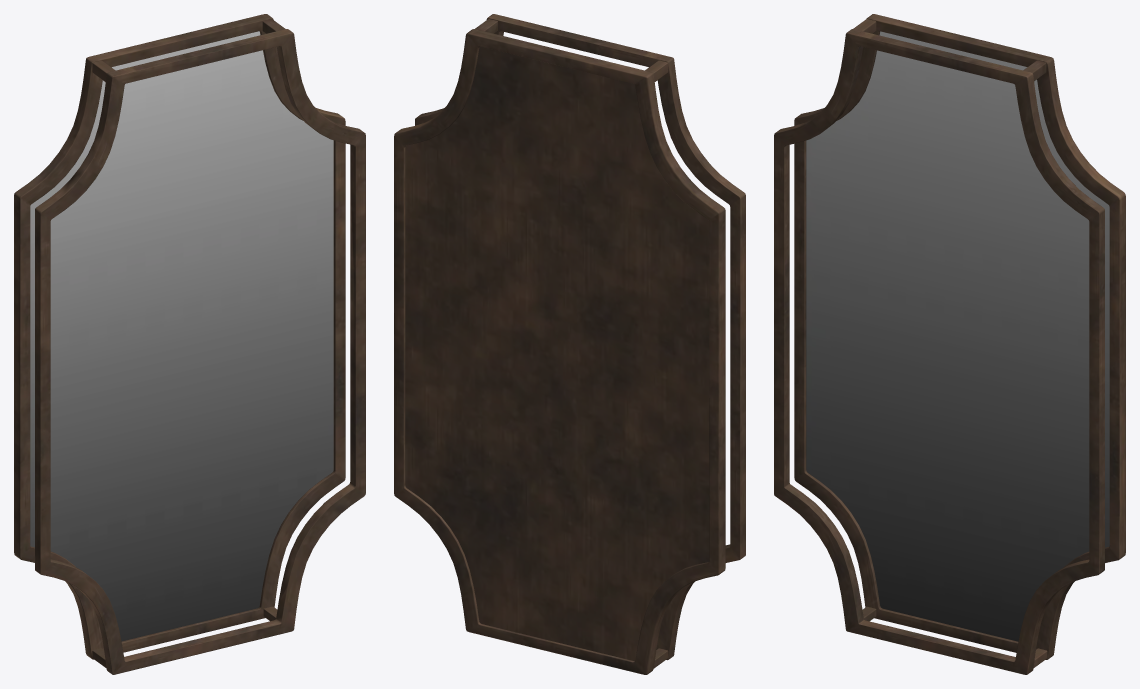
The picture shows the model from 3 angles, left to right: view 1: azimuth 30°, elevation 25°; view 2: azimuth 150°, elevation 25°; view 3: azimuth 330°, elevation 25°; orthographic projection.
Visible parts, largest first — view 1: RootNode; view 2: RootNode; view 3: RootNode.
Boxes of the visible parts, box(x1,y1,x2,y2) form: RootNode: box(14, 14, 365, 674); RootNode: box(394, 14, 745, 674); RootNode: box(774, 14, 1125, 674).
Size of the model in its own units: 0.4618 by 0.8112 by 0.0658.
1 material, 1 textured.
